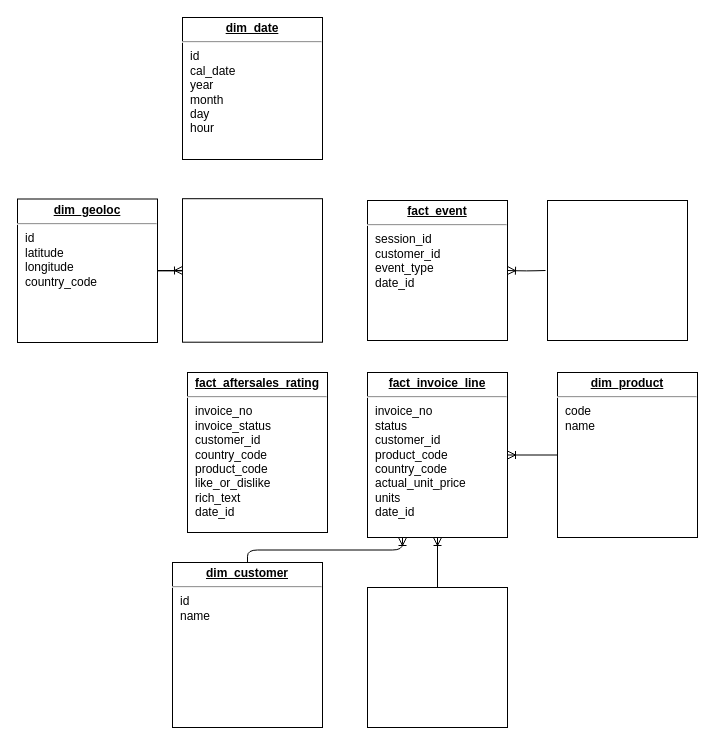
Some shapes in this 715 by 745 pixel diagram are drawn without their labels. The centre of each missing label's shape, as x and y in pixels:
"dim_country code name" belongs at pixel 437 657.
"dim_session id user_agent first_request_date_id last_request_date_id duration" belongs at pixel 617 270.
"fact_geoloc customer_id geoloc_id date_id" belongs at pixel 252 270.
